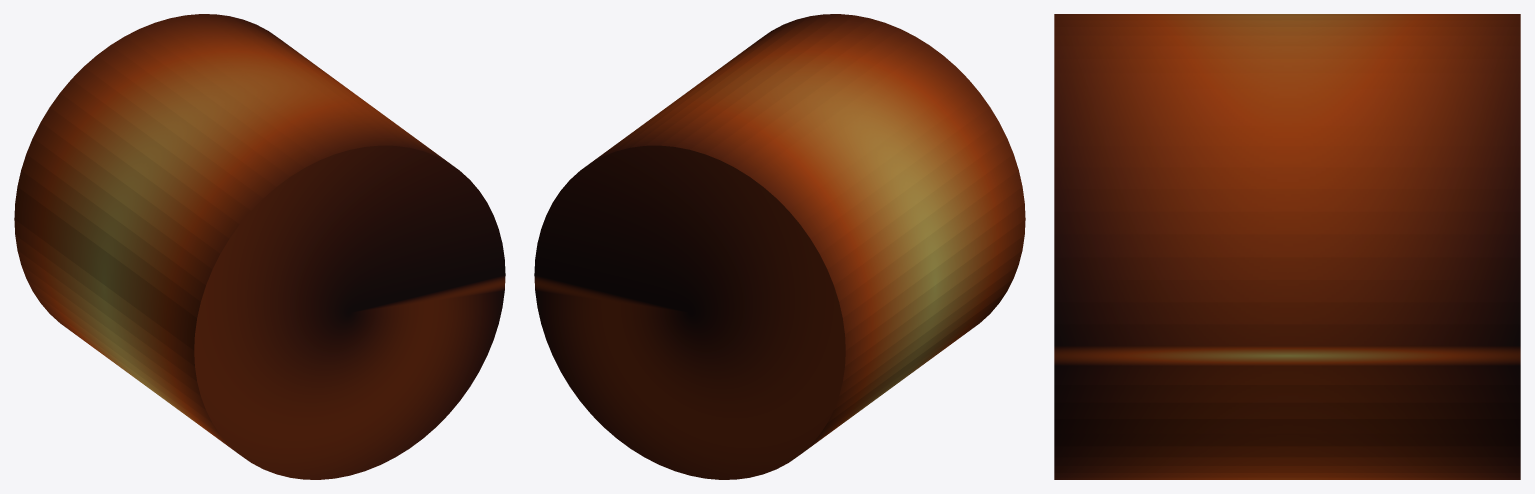
Rendered from cylinder-sunset.glb.
The picture shows the model from 3 angles, left to right: view 1: azimuth 30°, elevation 25°; view 2: azimuth 150°, elevation 25°; view 3: azimuth 270°, elevation 25°; orthographic projection. The views are drawn at different scales.
Parts seen in each view (by area): view 1: world; view 2: world; view 3: world.
Part boxes in pixels (box(x1,y1,x2,y2)): world: box(14, 14, 505, 479); world: box(534, 14, 1025, 479); world: box(1054, 14, 1520, 479).
Size of the model in its own units: 1 by 1 by 1.
1 material, 1 textured.
